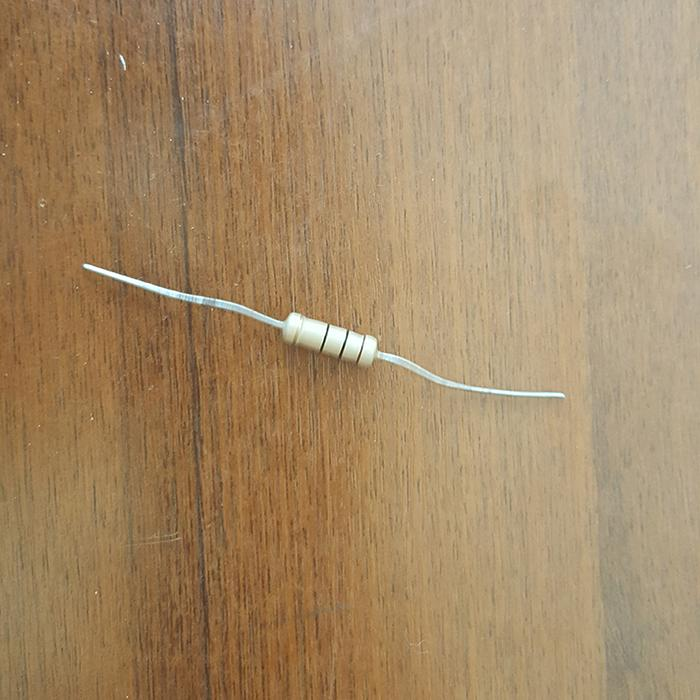resistor: (281, 311, 378, 366)
